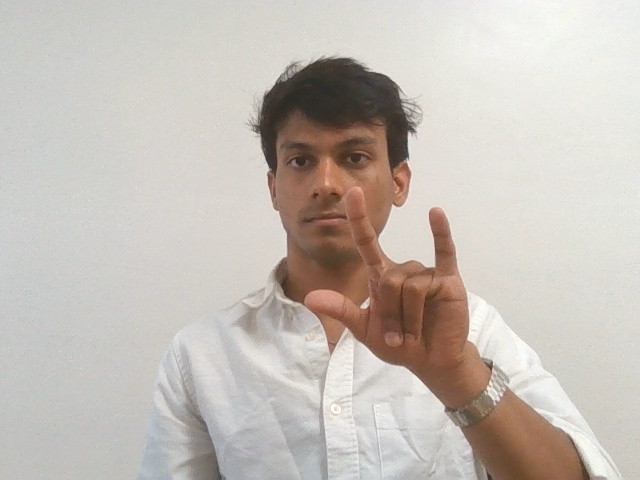ILoveYou: (295, 183, 483, 407)
